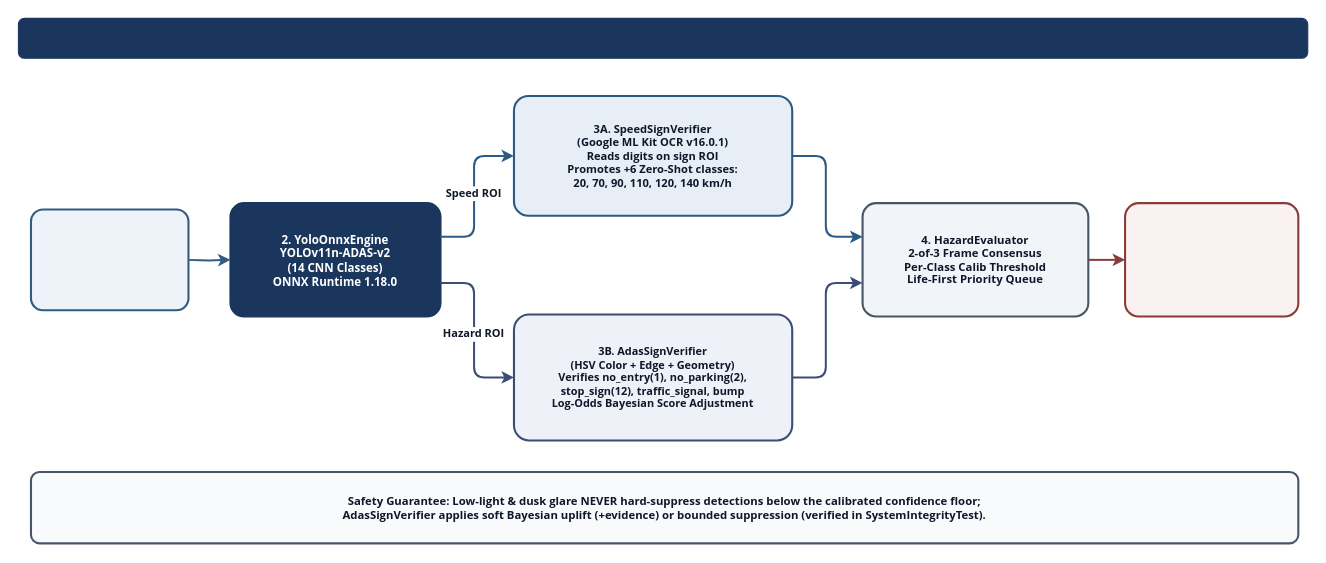
This 1326x563 diagram has some shape labels left out. Each missing label, with the box of its shape:
1. CameraX Frame RGB 640x640 Normalized Tensor: (29, 208, 189, 311)
5. Alert & Log SoundPool Cooldown (40 AR/EN MP3) Red HUD + SQLite: (1124, 202, 1299, 317)
Hybrid YOLOv11n ONNX + Bayesian HSV/Edge + ML Kit OCR Decision Pipeline: (17, 17, 1308, 58)
